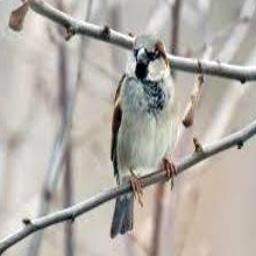Sparrow: (109, 33, 177, 238)
